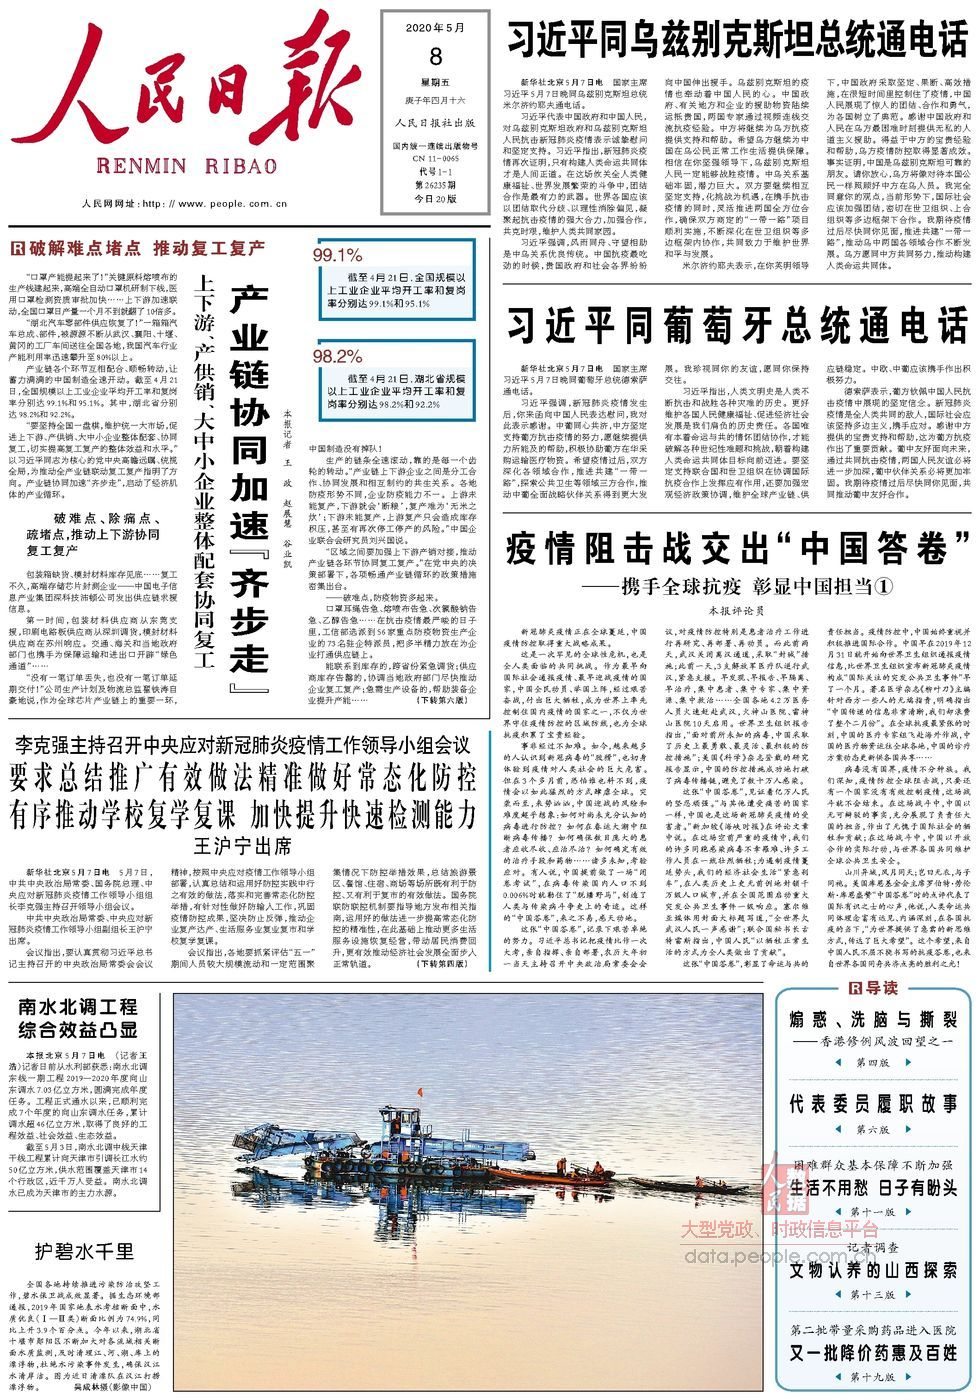pic: (168, 988, 768, 1397)
